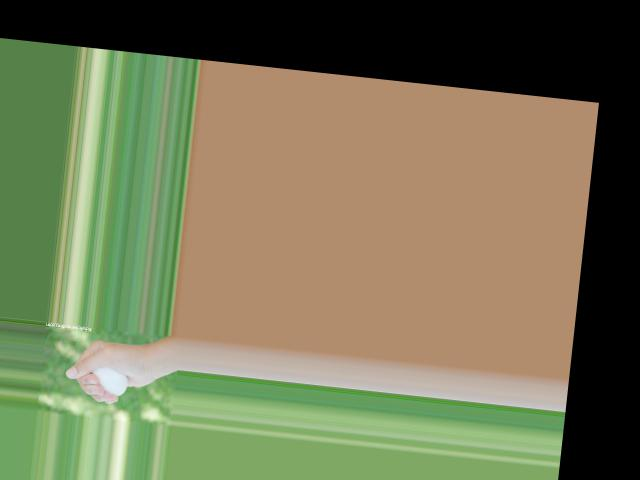egg: (89, 365, 128, 397)
